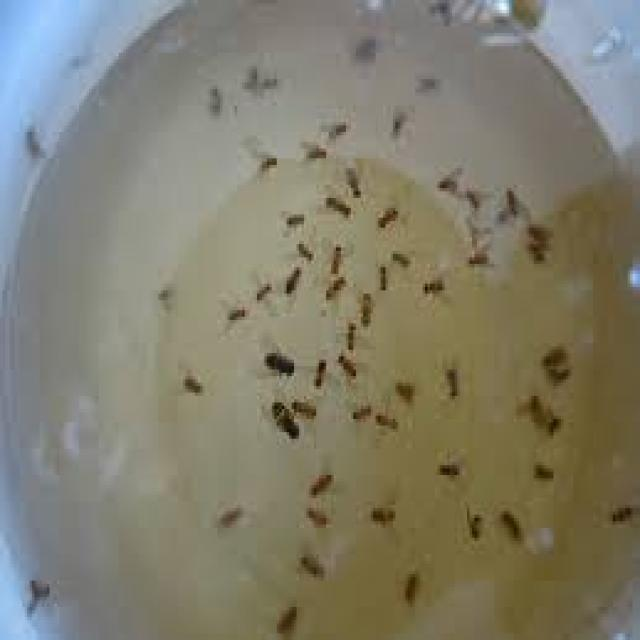fruit fly: (12, 561, 62, 620), (250, 330, 302, 386), (306, 172, 354, 228), (292, 343, 338, 399), (284, 531, 329, 587), (430, 346, 469, 409), (457, 228, 499, 284), (507, 379, 546, 439), (378, 89, 415, 152), (12, 112, 50, 172), (489, 175, 532, 228), (262, 389, 304, 442), (356, 492, 408, 534), (390, 558, 428, 614), (331, 155, 371, 208), (299, 458, 341, 504), (321, 340, 363, 386), (410, 264, 452, 310), (363, 192, 408, 234), (449, 175, 492, 218), (279, 382, 321, 426), (294, 495, 334, 541), (312, 264, 354, 307), (516, 208, 558, 251), (366, 400, 405, 446), (428, 155, 467, 201), (531, 330, 576, 369), (210, 492, 245, 541), (171, 356, 205, 406), (492, 498, 526, 548), (346, 277, 378, 330), (457, 492, 487, 548), (428, 446, 467, 488), (316, 234, 354, 277), (242, 268, 277, 314), (247, 142, 284, 185), (272, 198, 309, 241), (601, 488, 635, 534), (512, 234, 554, 271), (292, 125, 328, 168), (381, 238, 420, 277), (538, 356, 576, 396), (267, 590, 301, 634), (274, 258, 309, 300), (334, 310, 363, 360), (314, 109, 351, 148), (339, 392, 378, 429), (218, 290, 250, 334), (286, 228, 318, 270), (524, 449, 556, 488), (539, 400, 566, 446), (366, 250, 393, 294), (386, 369, 418, 406)
